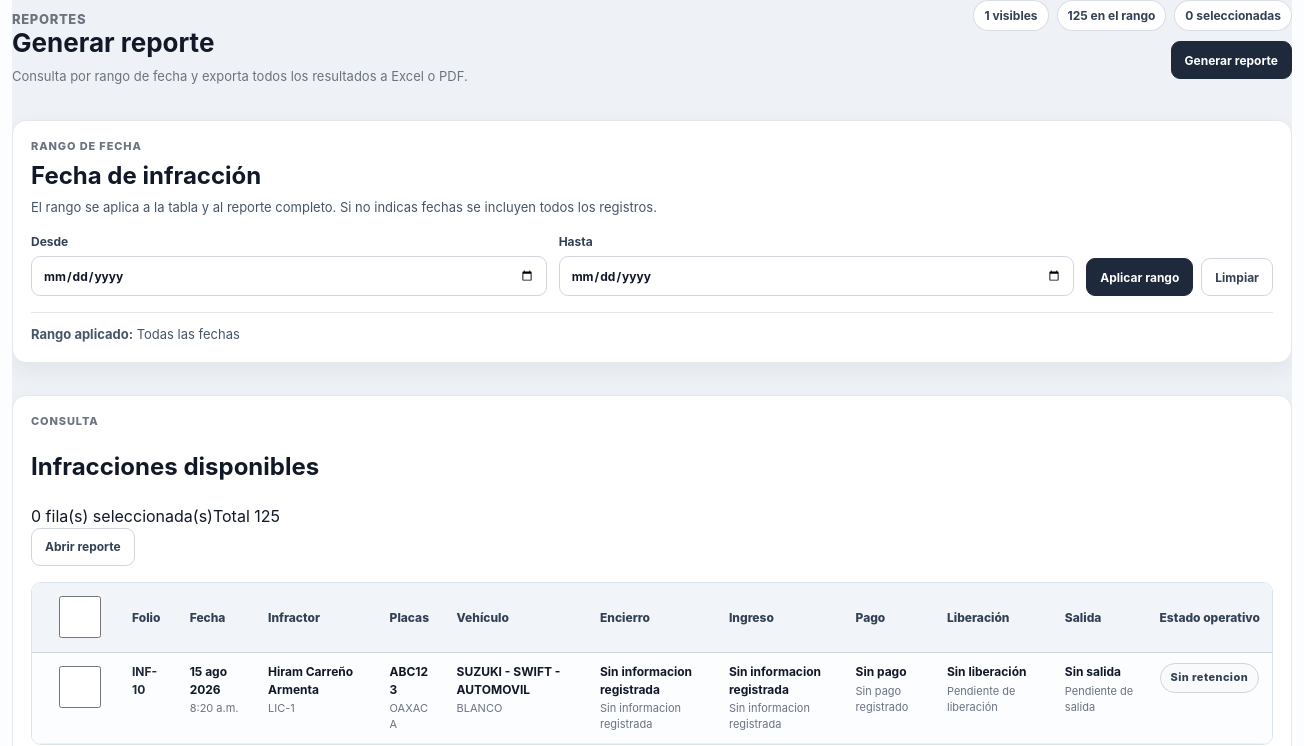
Test case: InfraccionesReportPage › rechaza un rango invertido antes de consultar de nuevo
The image size is (1304, 746).
Expected: the text "INF-10" is shown, [132,664,157,697]
Type "2026-08-31" into the date field labelled "Desde" at (289, 276), box [31,256,547,296]
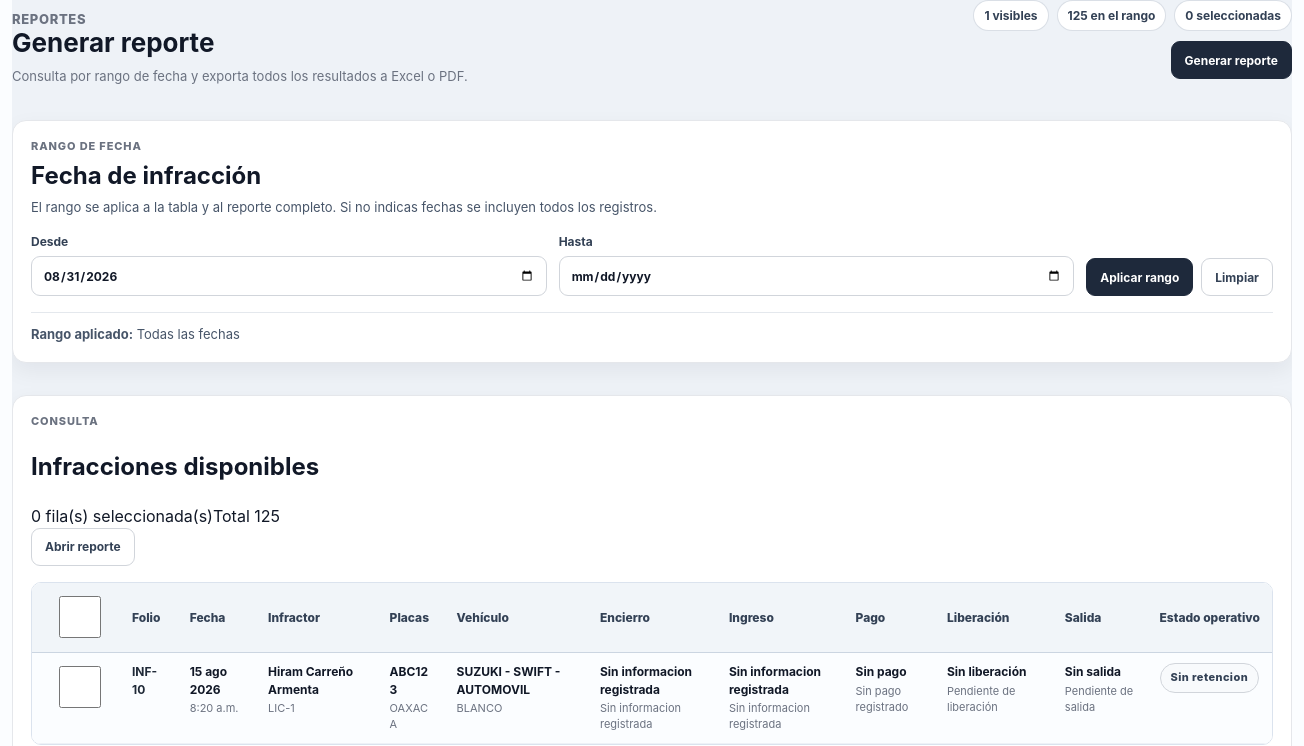
Type "2026-08-01" into the date field labelled "Hasta" at (817, 276), box [559,256,1074,296]
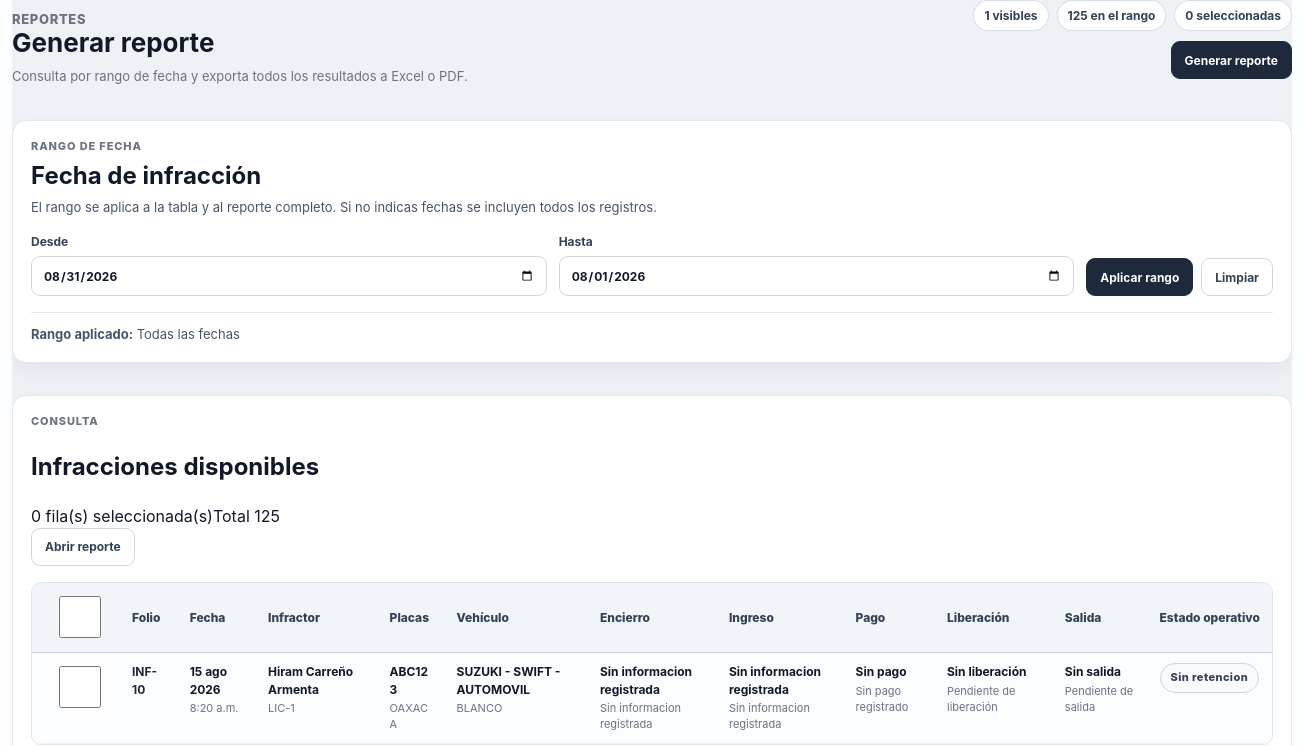
Click the button "Aplicar rango" at (1140, 277), box [1086,258,1193,296]
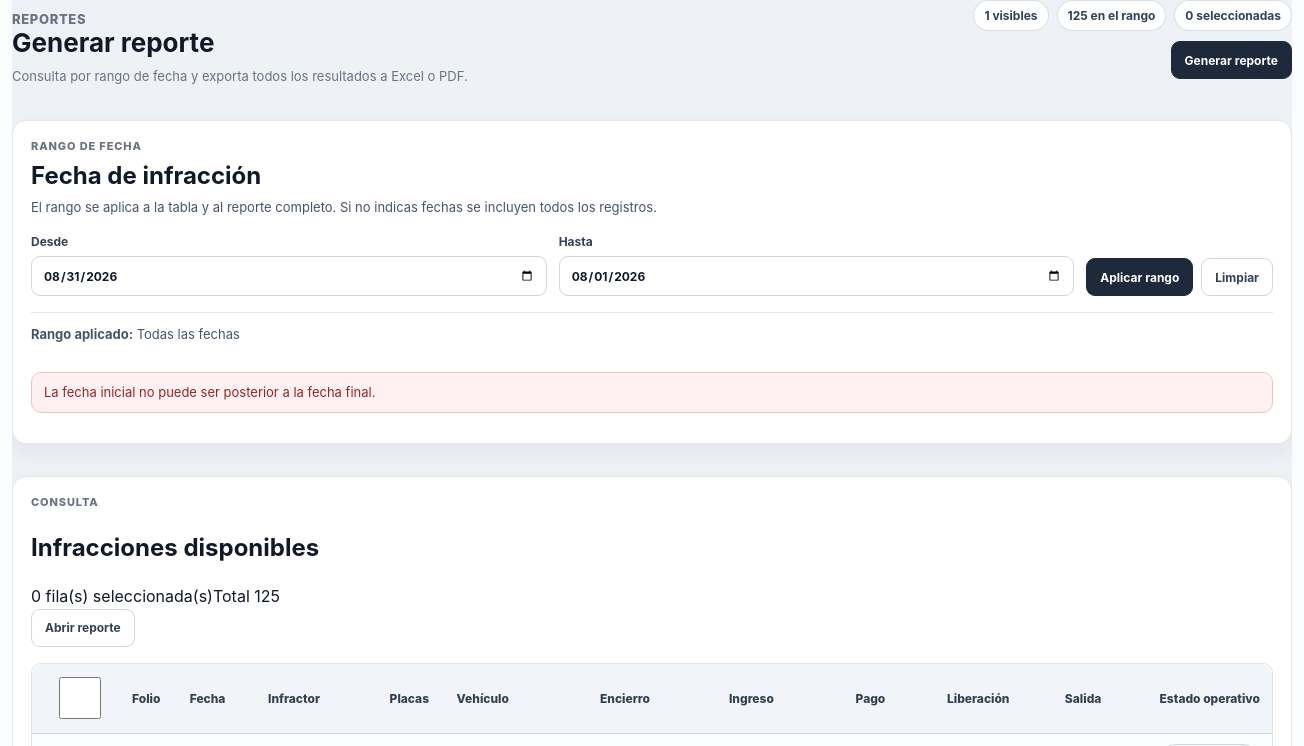
Now the text "La fecha inicial no puede ser posterior a la fecha final." is shown, box [31,372,1273,413]
